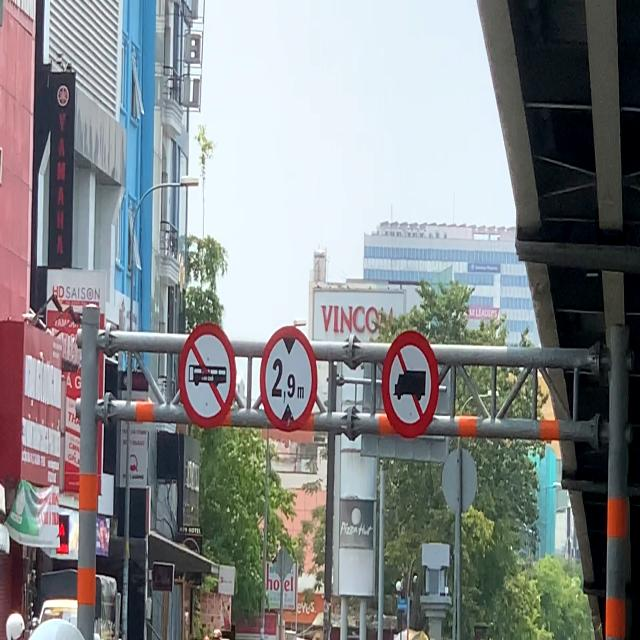P.106a: (382, 328, 442, 439)
P.107a: (179, 322, 238, 432)
P.117: (259, 322, 319, 439)
